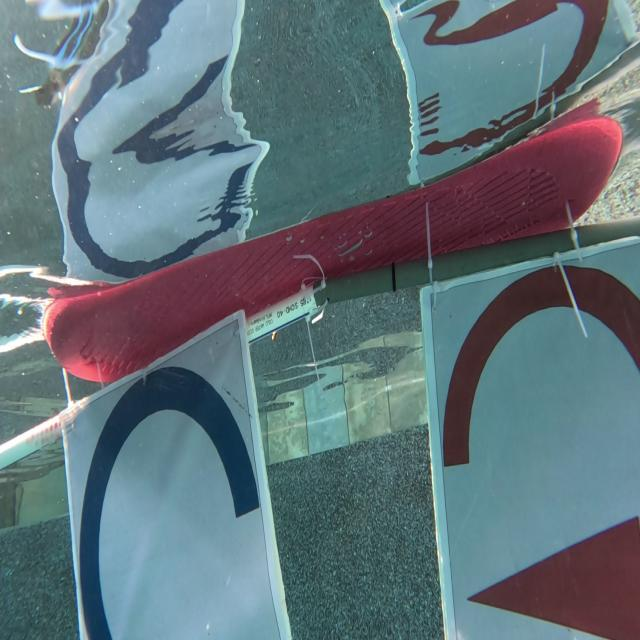blue_side: (73, 344, 265, 640)
red_side: (435, 265, 640, 640)
